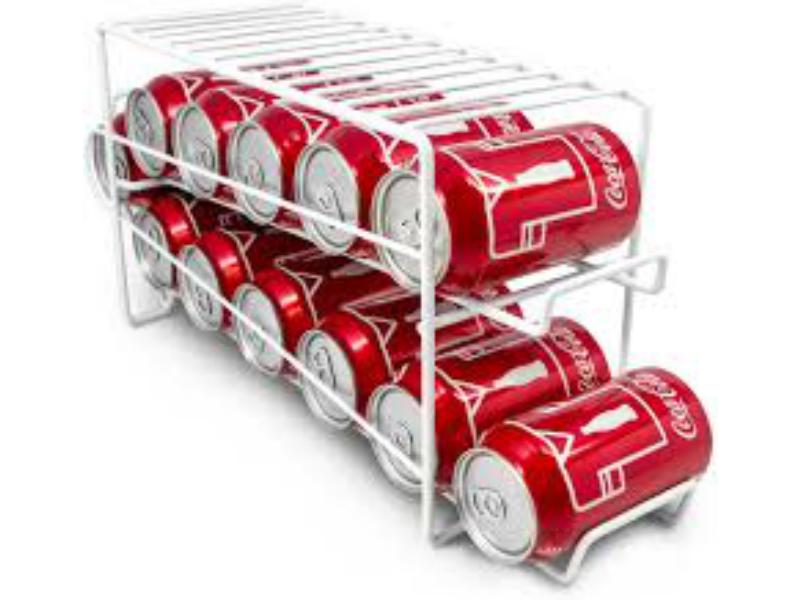can: (377, 119, 641, 290), (452, 427, 630, 562), (362, 369, 469, 492), (294, 130, 368, 256), (230, 277, 309, 379), (300, 324, 372, 424), (232, 110, 283, 228), (171, 236, 227, 341), (173, 101, 225, 204), (126, 212, 180, 291), (128, 78, 168, 181)
